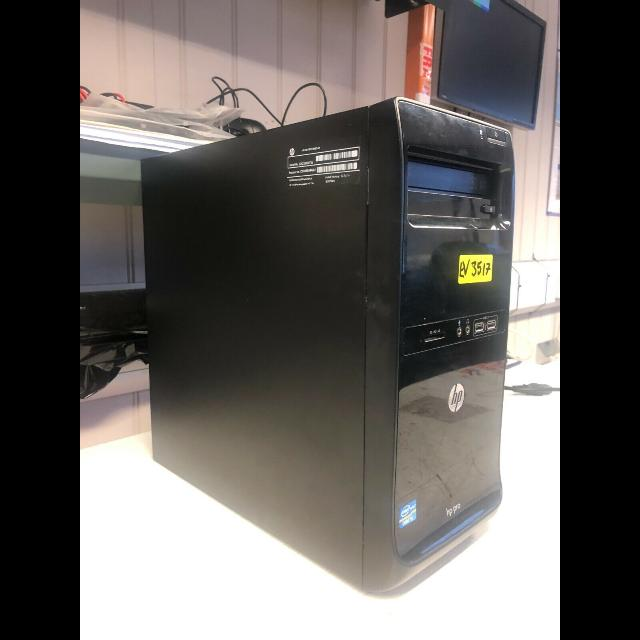Desktop-PC: (142, 97, 508, 595)
